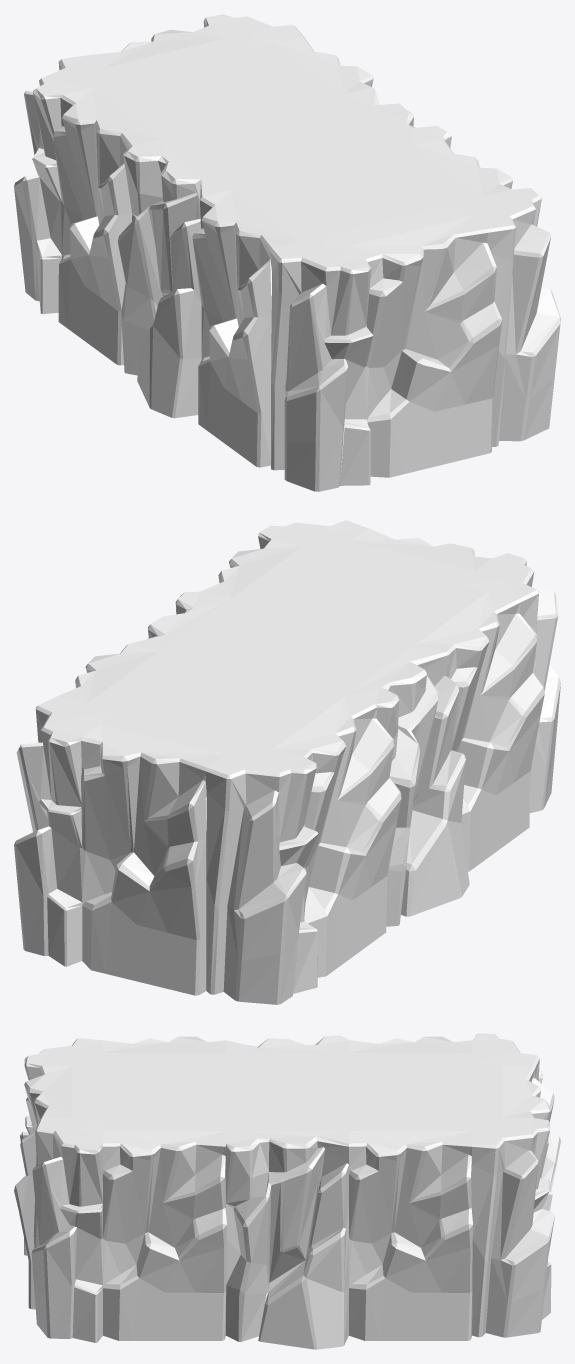
Rendered from m_dlc09_iceplatform_1.fbx.
The picture shows the model from 3 angles, top to bottom: view 1: azimuth 30°, elevation 25°; view 2: azimuth 150°, elevation 25°; view 3: azimuth 270°, elevation 25°; orthographic projection. The views are drawn at different scales.
Visible parts, largest first — view 1: m_dlc09_iceplatform_1_5; view 2: m_dlc09_iceplatform_1_5; view 3: m_dlc09_iceplatform_1_5.
Boxes of the visible parts, left/top/right/bottom form: m_dlc09_iceplatform_1_5: left=14, top=14, right=560, bottom=491; m_dlc09_iceplatform_1_5: left=14, top=520, right=560, bottom=1004; m_dlc09_iceplatform_1_5: left=14, top=1033, right=560, bottom=1349.
Size of the model in its own units: 0.0304 by 0.0533 by 0.0207.
Materials: 1 (1 with a texture image).
